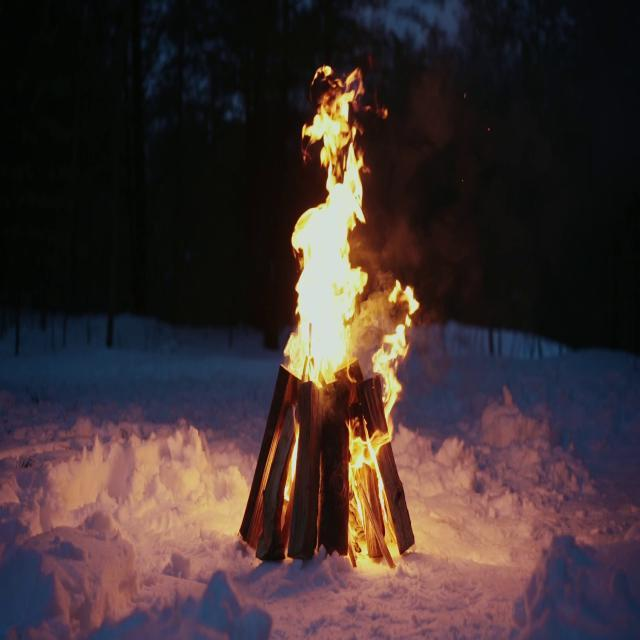Fire: (280, 56, 424, 562)
